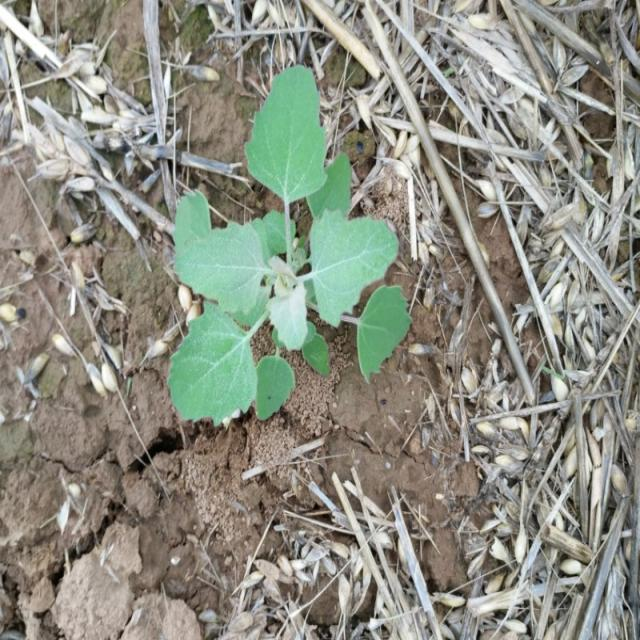goosefoots: (158, 147, 406, 468)
